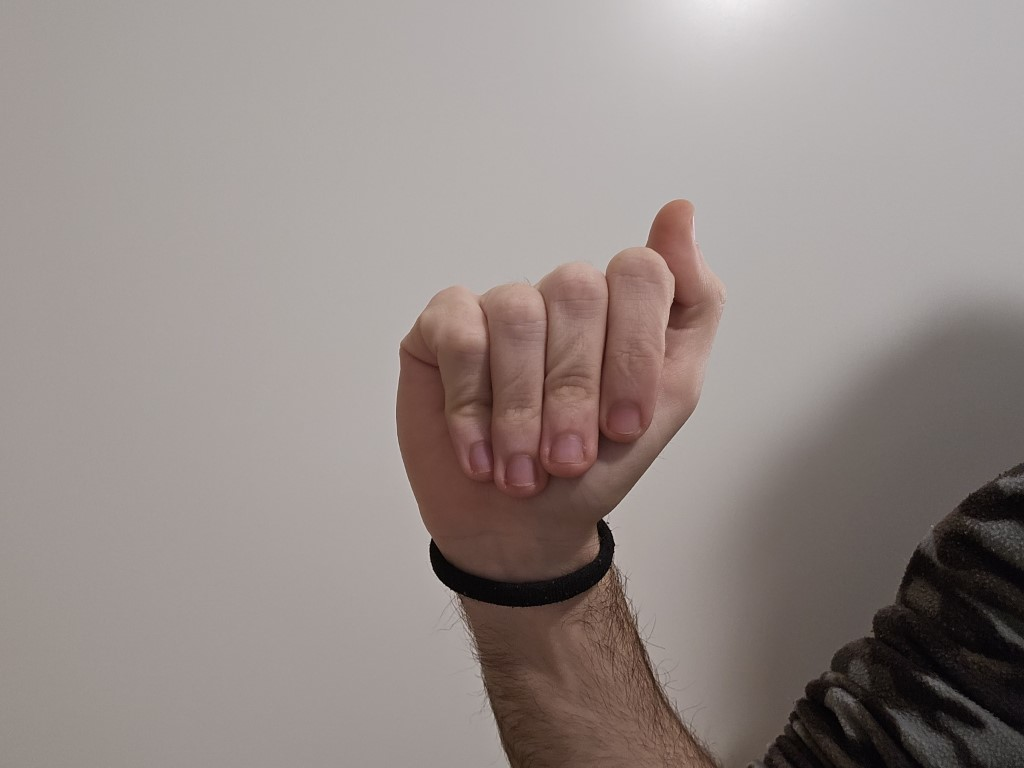a: (324, 185, 753, 570)
